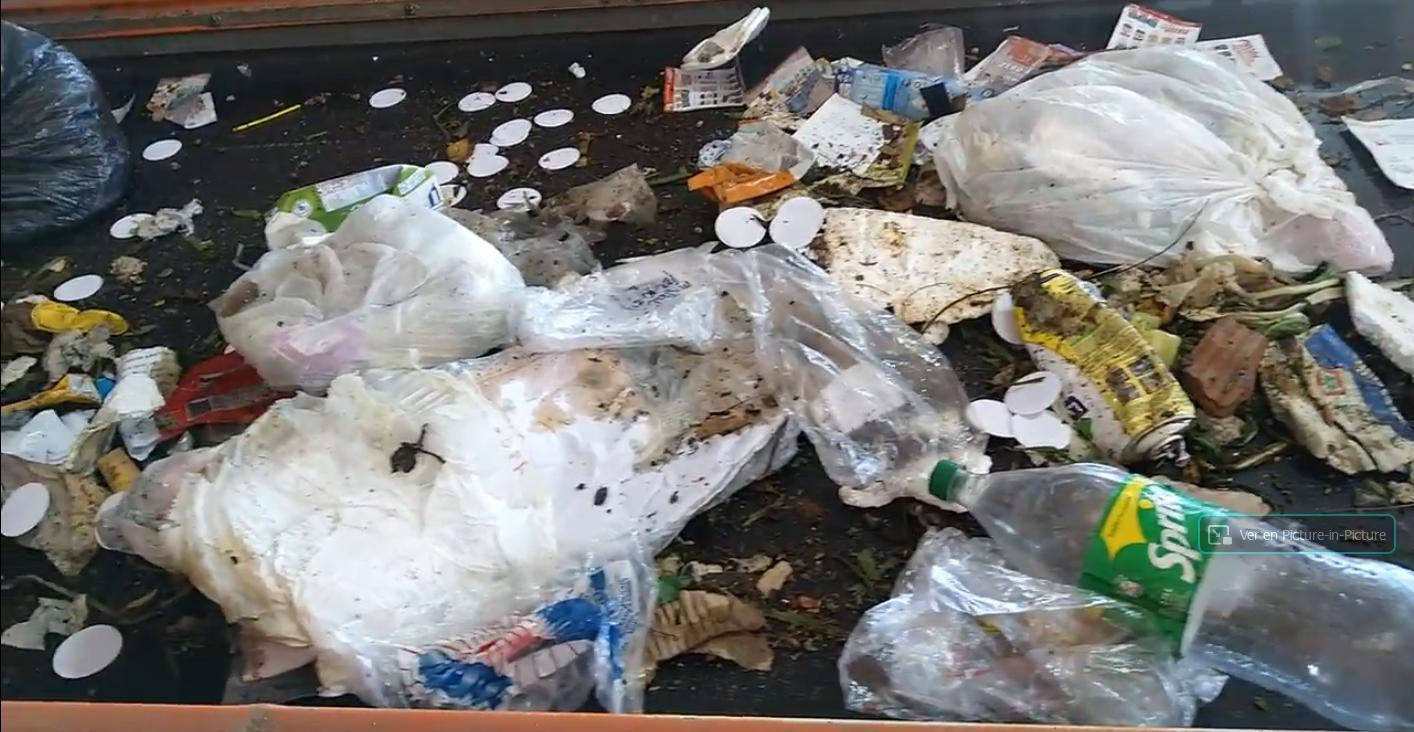bottle: (917, 446, 1404, 732), (256, 164, 439, 244), (827, 51, 989, 132)
